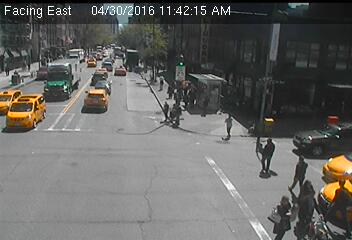neg: (147, 124, 204, 200), (75, 142, 108, 186), (36, 171, 66, 211), (285, 102, 312, 139), (309, 94, 334, 128), (319, 143, 343, 175), (216, 38, 240, 69), (277, 39, 299, 68), (46, 63, 67, 90), (77, 95, 96, 120), (117, 49, 135, 74), (109, 76, 126, 98), (140, 46, 156, 68), (89, 48, 101, 63)
pos: (315, 175, 351, 235), (250, 132, 282, 175), (294, 193, 324, 234), (283, 152, 313, 192), (268, 195, 298, 234), (216, 110, 241, 144), (198, 91, 217, 117), (154, 98, 171, 121), (169, 102, 186, 125)
